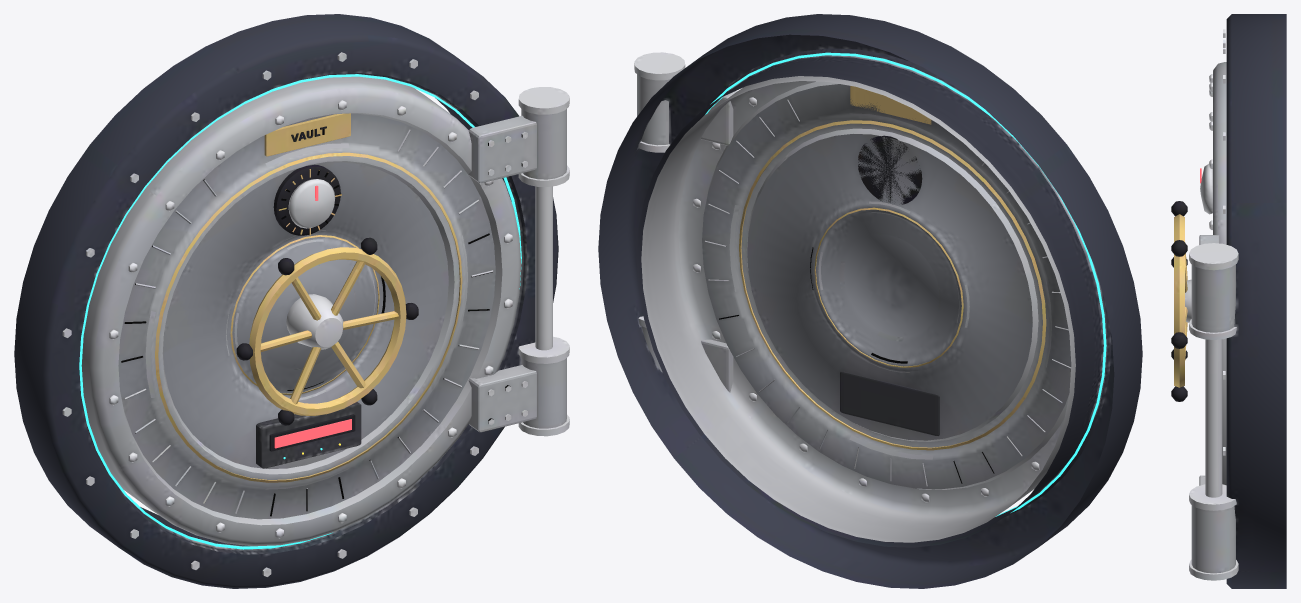
The model's file is vault_door.glb.
3 renders of one model, left to right at view 1: azimuth 30°, elevation 25°; view 2: azimuth 150°, elevation 25°; view 3: azimuth 270°, elevation 25°, orthographic. The views are drawn at different scales.
Parts seen in each view (by area): view 1: body, wheel_mesh, dial_mesh, lock_light; view 2: body; view 3: body, wheel_mesh, dial_mesh.
Boxes of the visible parts, x1,y1,x2,y2 form: body: [14, 14, 569, 588]; wheel_mesh: [236, 237, 418, 425]; dial_mesh: [288, 179, 335, 228]; lock_light: [274, 419, 351, 448]; body: [598, 14, 1142, 588]; body: [1189, 14, 1286, 588]; wheel_mesh: [1171, 201, 1191, 401]; dial_mesh: [1200, 164, 1212, 214].
Bounding box in the file's own units: 6.72 × 6.72 × 1.35.
4 materials, 1 textured.
